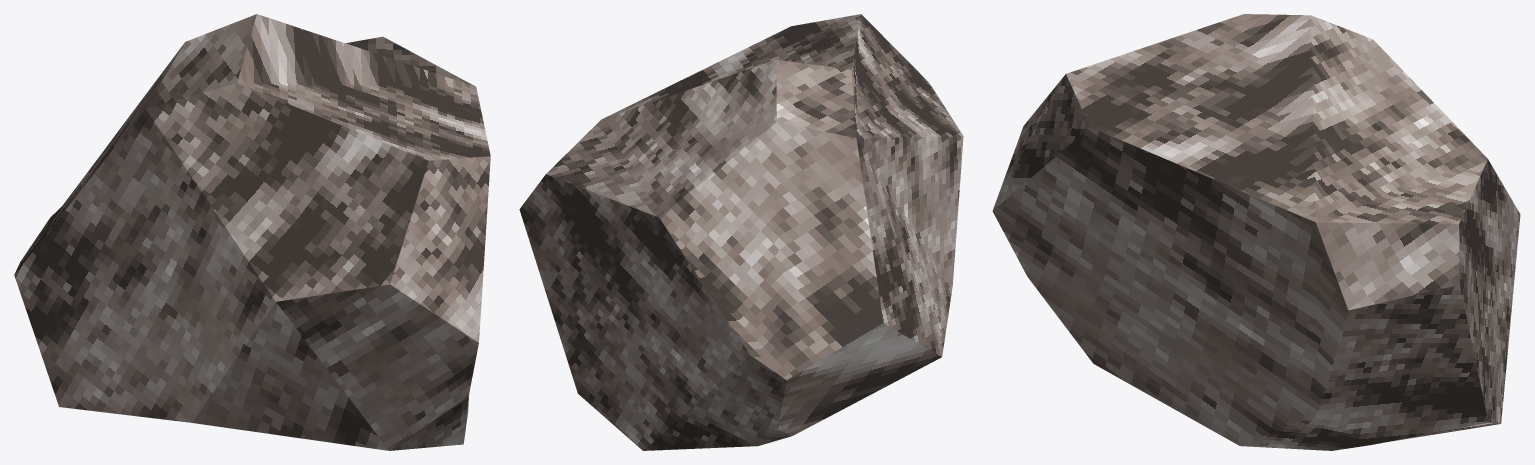
Rendered from rock_1.fbx.
3 views of the same model, side by side, from view 1: azimuth 30°, elevation 25°; view 2: azimuth 150°, elevation 25°; view 3: azimuth 270°, elevation 25° (orthographic). The views are drawn at different scales.
Visible parts, largest first — view 1: rock_1_LOD0; view 2: rock_1_LOD0; view 3: rock_1_LOD0.
Part boxes in pixels (<box>): rock_1_LOD0: <box>14,14,490,450</box>; rock_1_LOD0: <box>519,14,963,450</box>; rock_1_LOD0: <box>992,14,1520,450</box>.
Size of what is drawn, in the model's own units: 139 by 127 by 159.
